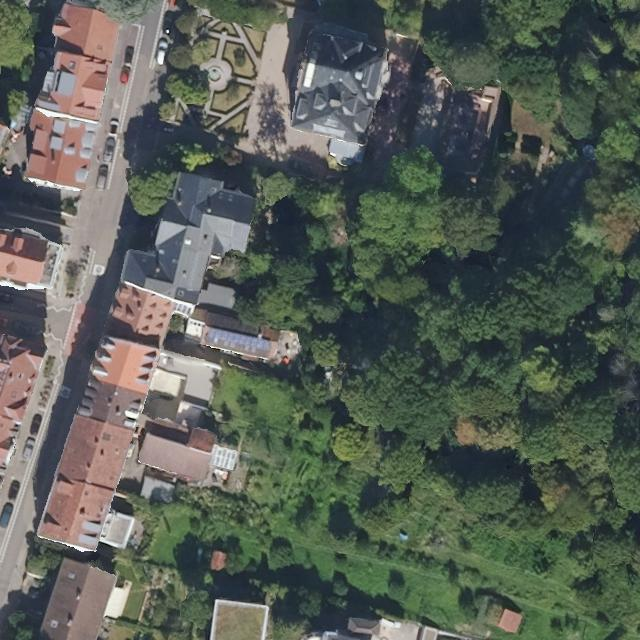PV: (207, 327, 271, 354)
